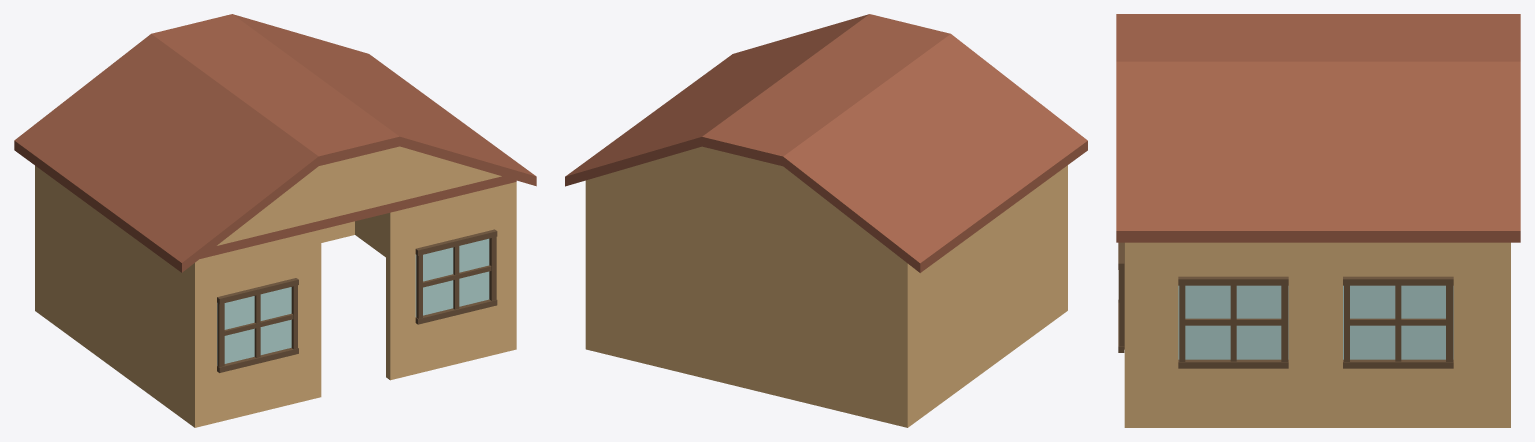
The model's file is House_04.fbx.
3 renders of one model, left to right at view 1: azimuth 30°, elevation 25°; view 2: azimuth 150°, elevation 25°; view 3: azimuth 270°, elevation 25°, orthographic. The views are drawn at different scales.
Visible parts, largest first — view 1: House; view 2: House; view 3: House.
Boxes of the visible parts, x1,y1,x2,y2 form: House: (14,14,536,427); House: (565,14,1087,427); House: (1116,14,1520,427).
Size of the model in its own units: 421 by 277 by 344.
